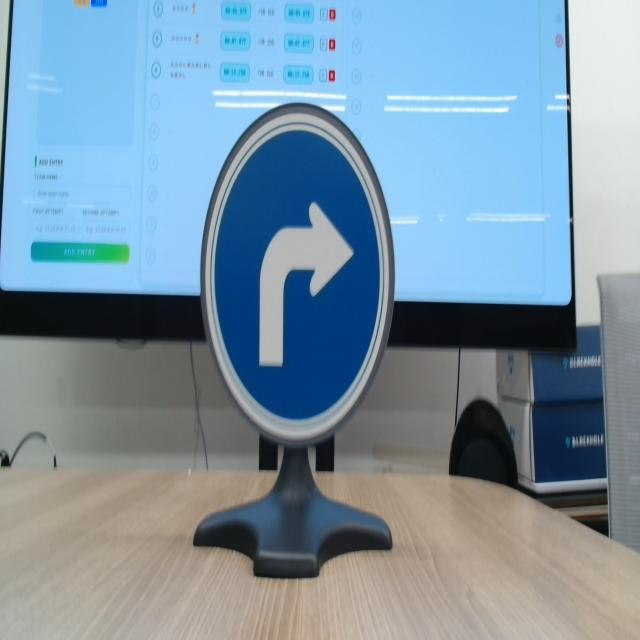right_dierection: (190, 82, 402, 453)
